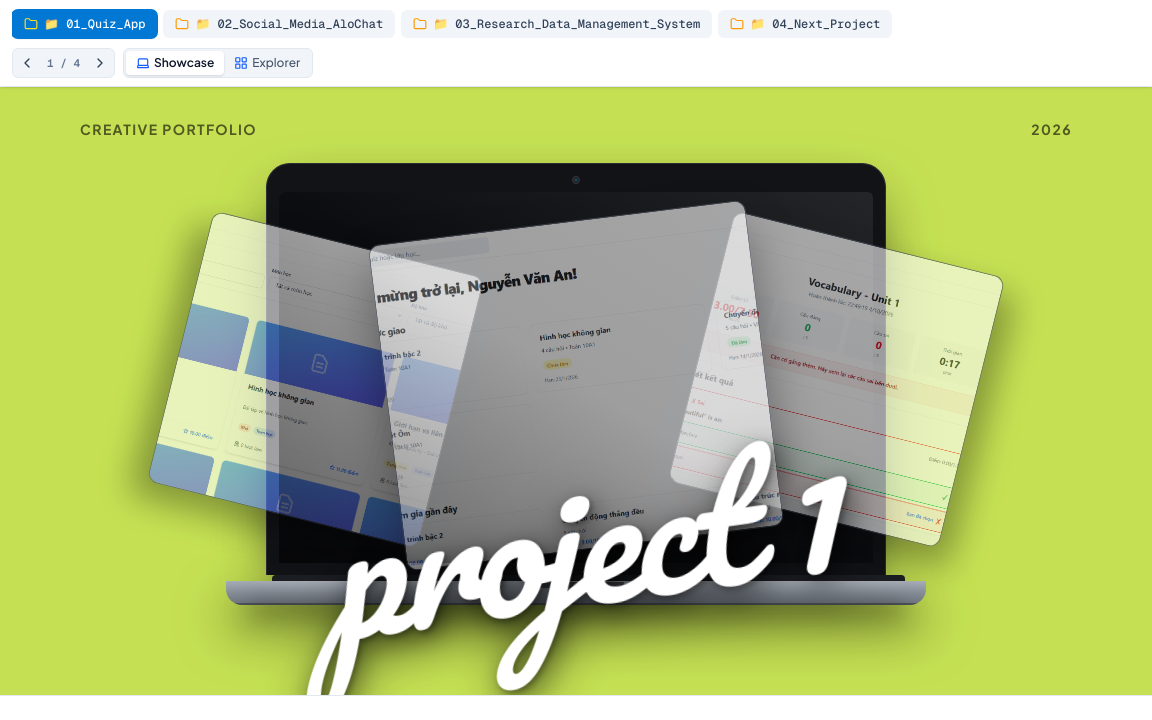
Scenario: ProjectsContent Component › switches projects by clicking folder tabs
The image size is (1152, 720).
Click the button "📁 02_Social_Media_AloChat" at [279, 24], box [163,10,395,38]
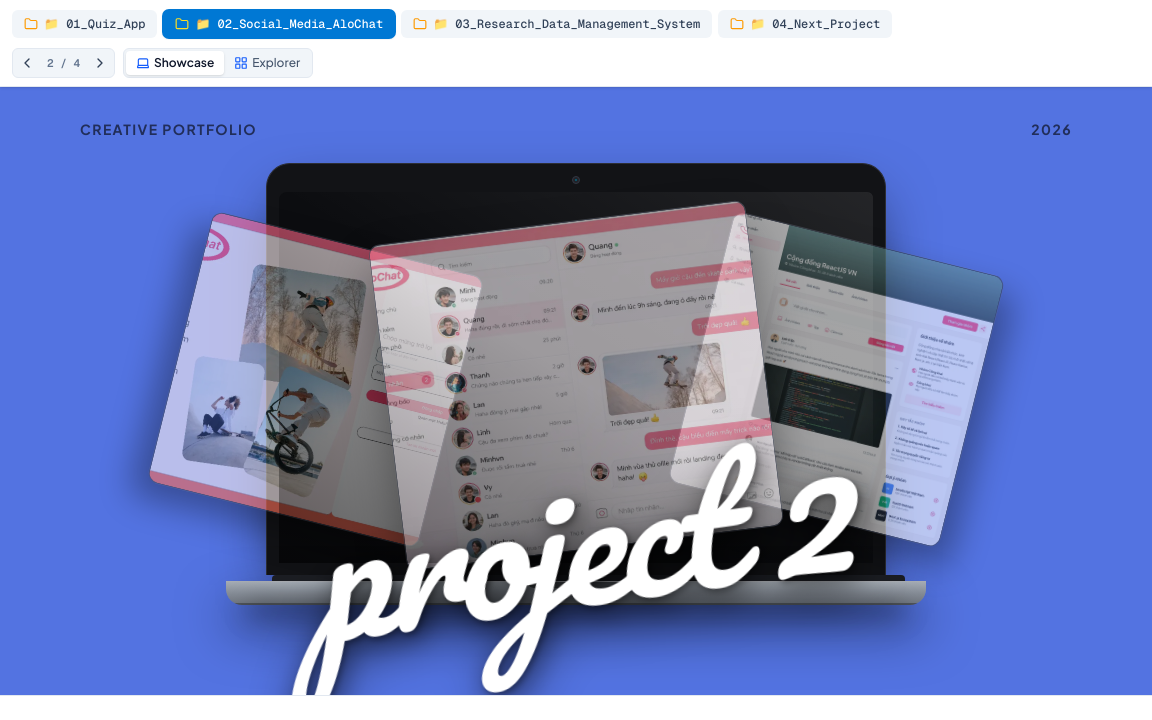
Click the button "📁 03_Research_Data_Management_System" at [557, 24], box [401,10,712,38]
(page scrolled)
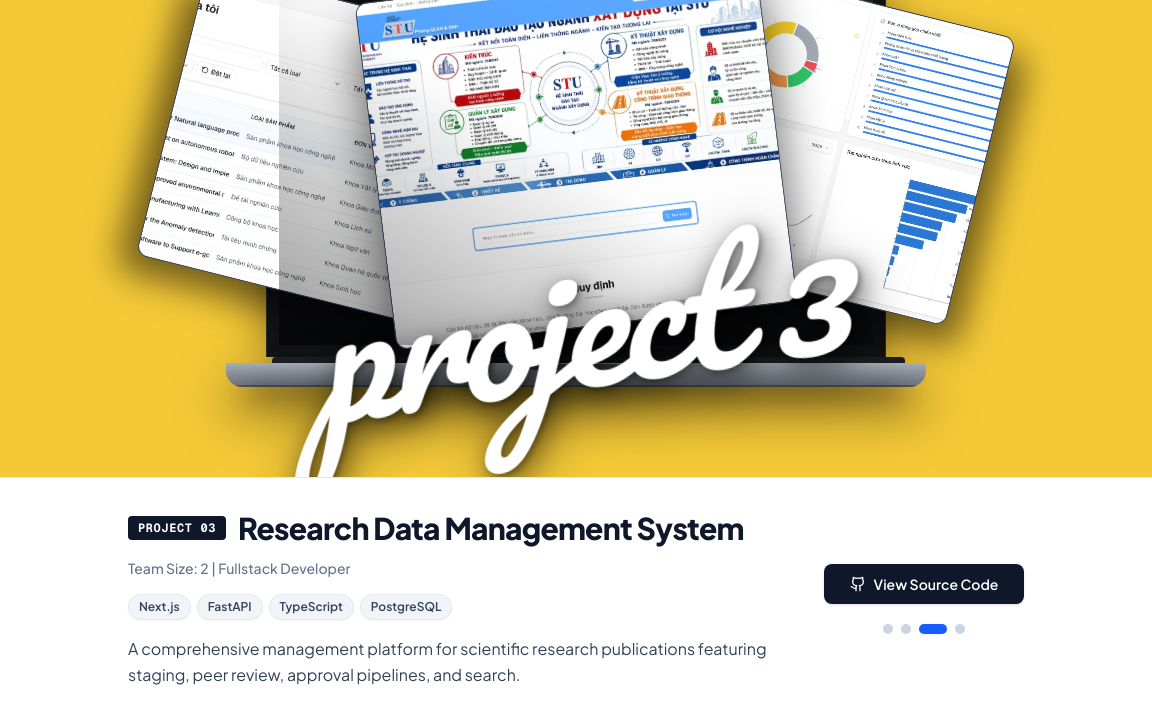
Expected: the heading "Research Data Management System" is shown, [238,510,744,546]
